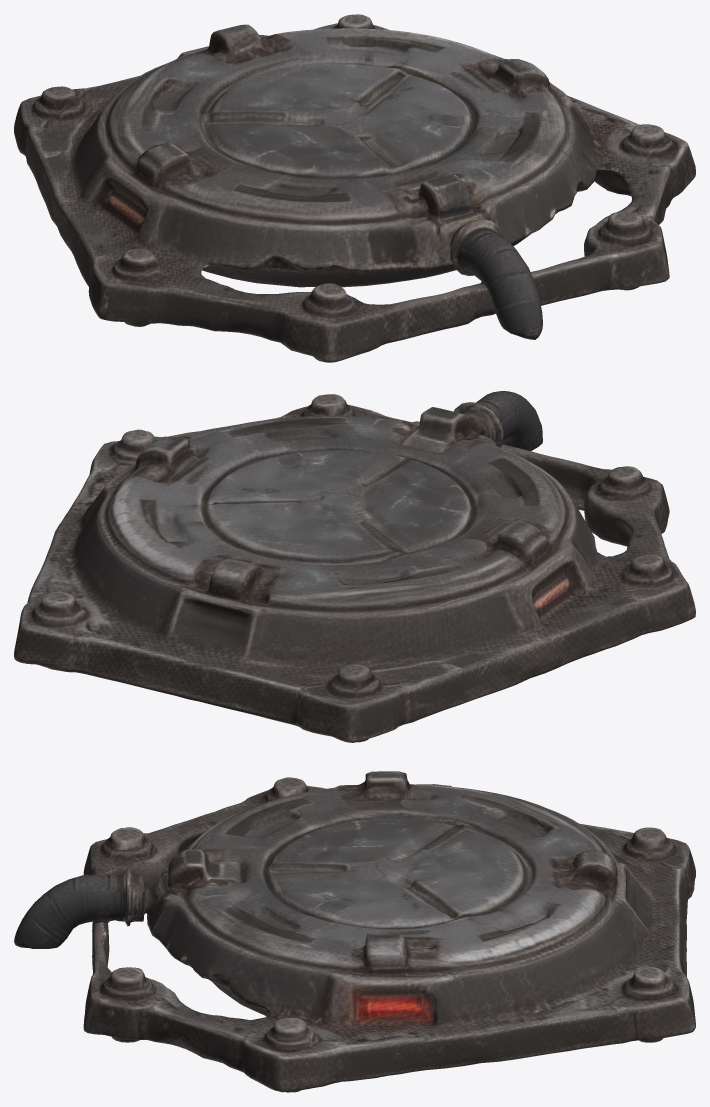
The model's file is MetalHatch_base_basic_pbr.glb.
3 views of the same model, one above another, from view 1: azimuth 30°, elevation 25°; view 2: azimuth 150°, elevation 25°; view 3: azimuth 270°, elevation 25° (orthographic). The views are drawn at different scales.
Parts seen in each view (by area): view 1: model; view 2: model; view 3: model.
Part boxes in pixels (box(x1,y1,x2,y2)): model: box(14, 14, 695, 362); model: box(14, 391, 695, 742); model: box(14, 771, 695, 1092).
Size of the model in its own units: 1.85 by 0.3395 by 1.89.
1 material, 1 textured.
